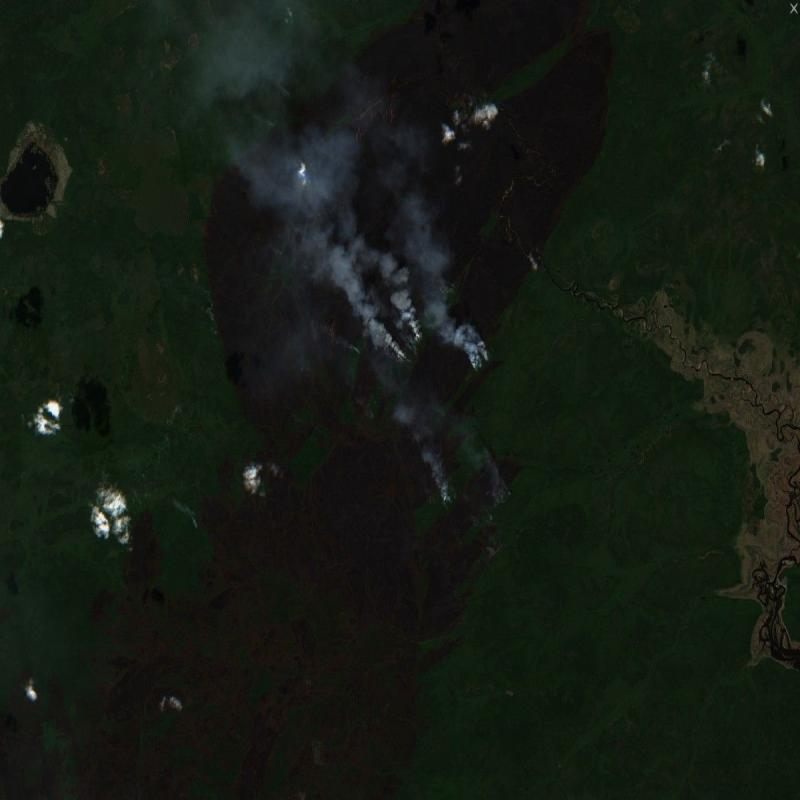fire: (375, 305, 428, 368), (483, 467, 528, 536), (458, 330, 502, 385), (436, 478, 456, 509), (188, 504, 204, 530)
